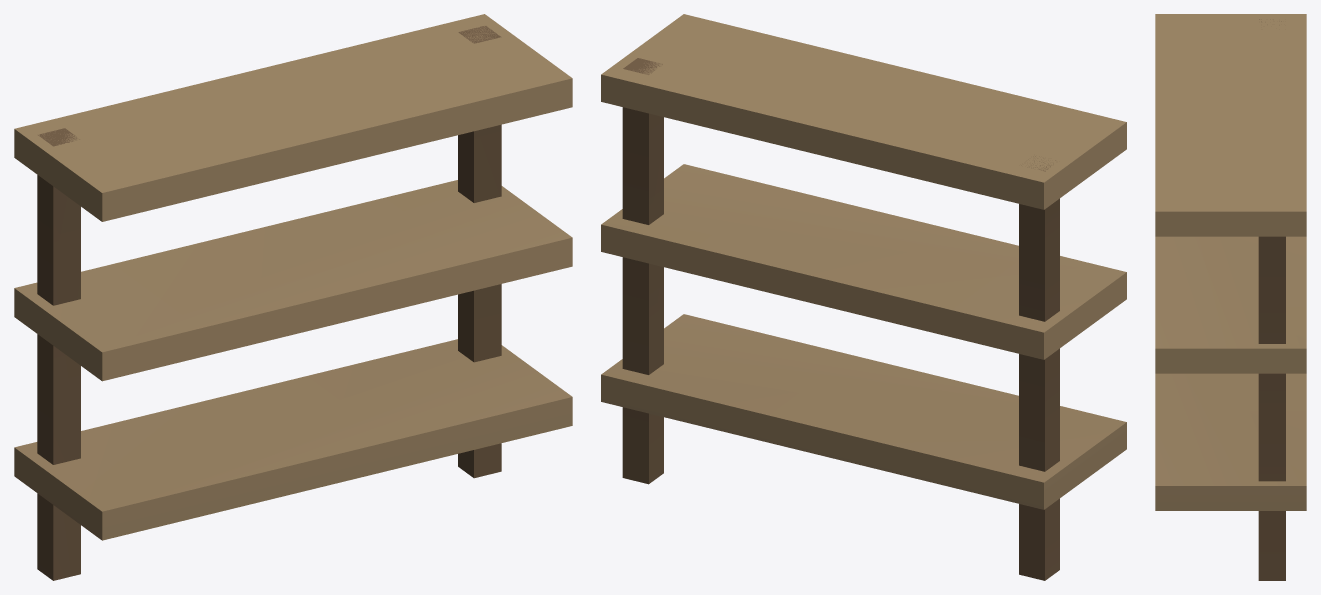
File: shelf.glb
3 views of the same model, side by side, from view 1: azimuth 30°, elevation 25°; view 2: azimuth 150°, elevation 25°; view 3: azimuth 270°, elevation 25° (orthographic). The views are drawn at different scales.
Visible parts, largest first — view 1: shelf; view 2: shelf; view 3: shelf.
Boxes of the visible parts, x1,y1,x2,y2 form: shelf: (14,14,572,580); shelf: (601,14,1126,580); shelf: (1155,14,1306,580).
Bounding box in the file's own units: 1.7 × 1.5 × 0.55.
